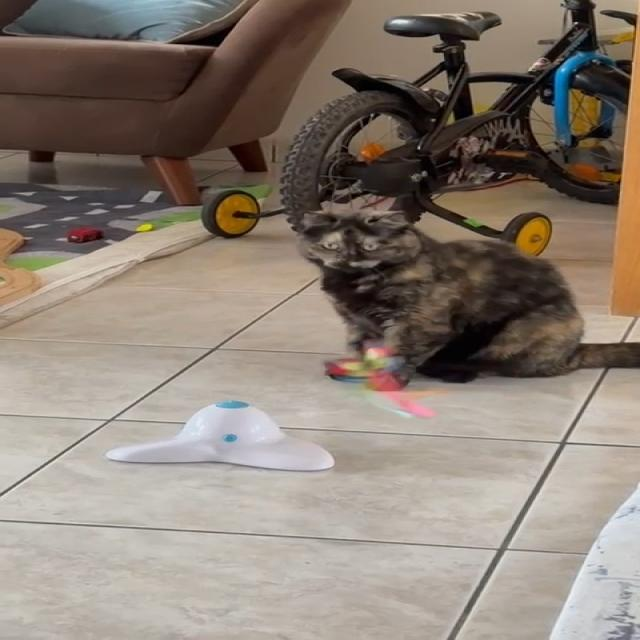authorized: (293, 200, 639, 386)
